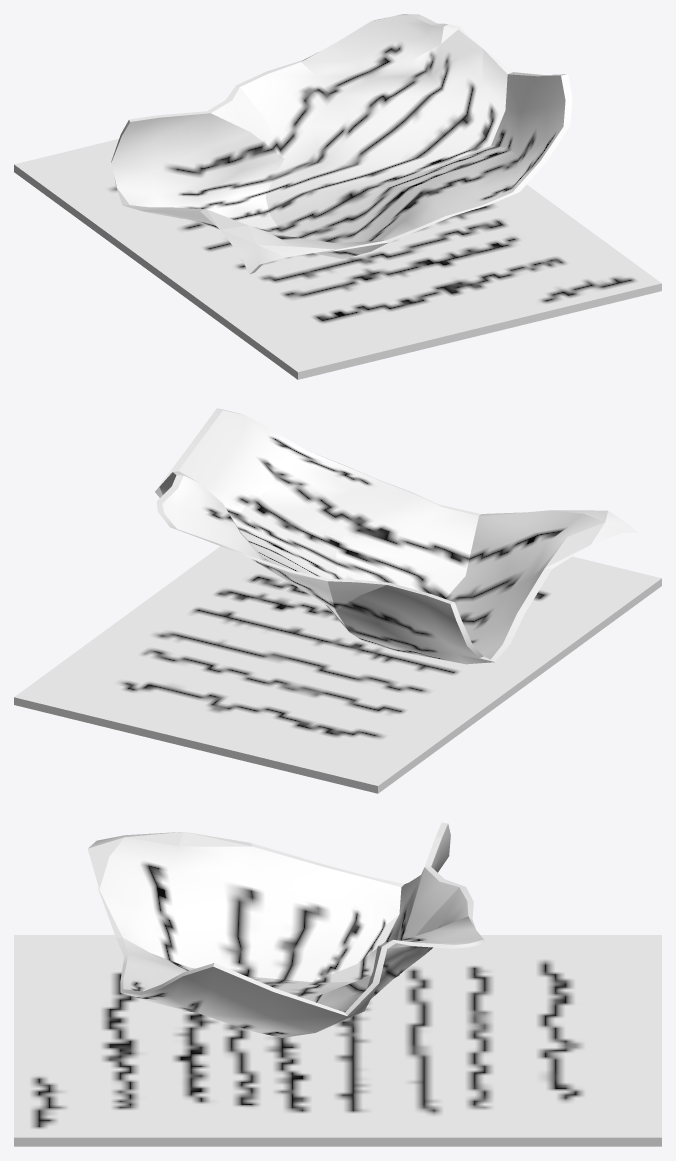
The model's file is PapelCrush.fbx.
3 views of the same model, one above another, from view 1: azimuth 30°, elevation 25°; view 2: azimuth 150°, elevation 25°; view 3: azimuth 270°, elevation 25° (orthographic). The views are drawn at different scales.
Visible parts, largest first — view 1: PapelCrush, Papel; view 2: Papel, PapelCrush; view 3: Papel, PapelCrush.
Part boxes in pixels (x1,y1,x2,y2): PapelCrush: (111, 14, 572, 274); Papel: (14, 139, 661, 379); Papel: (14, 546, 661, 793); PapelCrush: (155, 408, 638, 664); Papel: (14, 935, 661, 1146); PapelCrush: (88, 822, 484, 1037).
Size of what is drawn, in the model's own units: 21.58 by 8.52 by 28.15.
